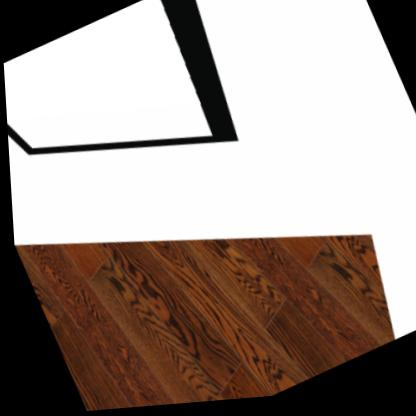Wooden floor: (12, 240, 391, 412)
